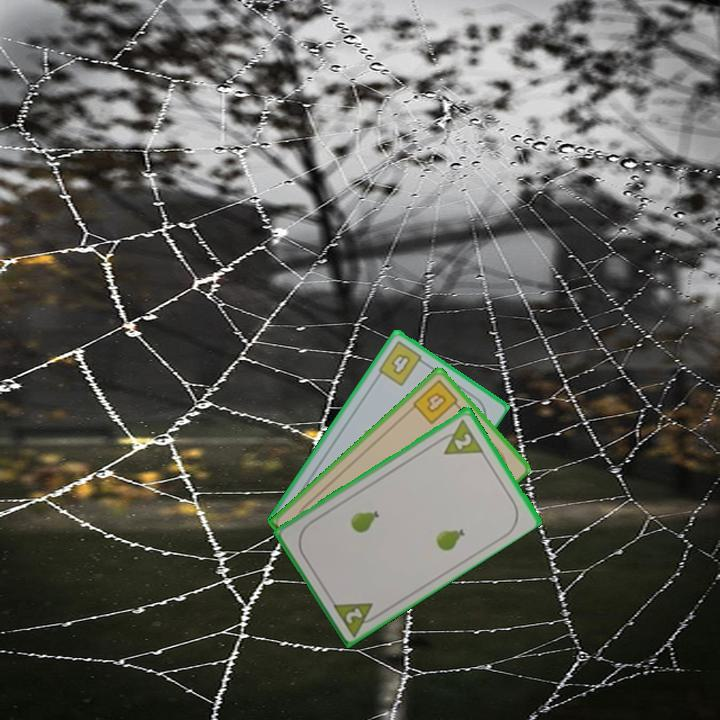2p: (328, 598, 384, 638), (451, 429, 475, 452)
4b: (375, 337, 430, 389), (409, 376, 464, 427)
